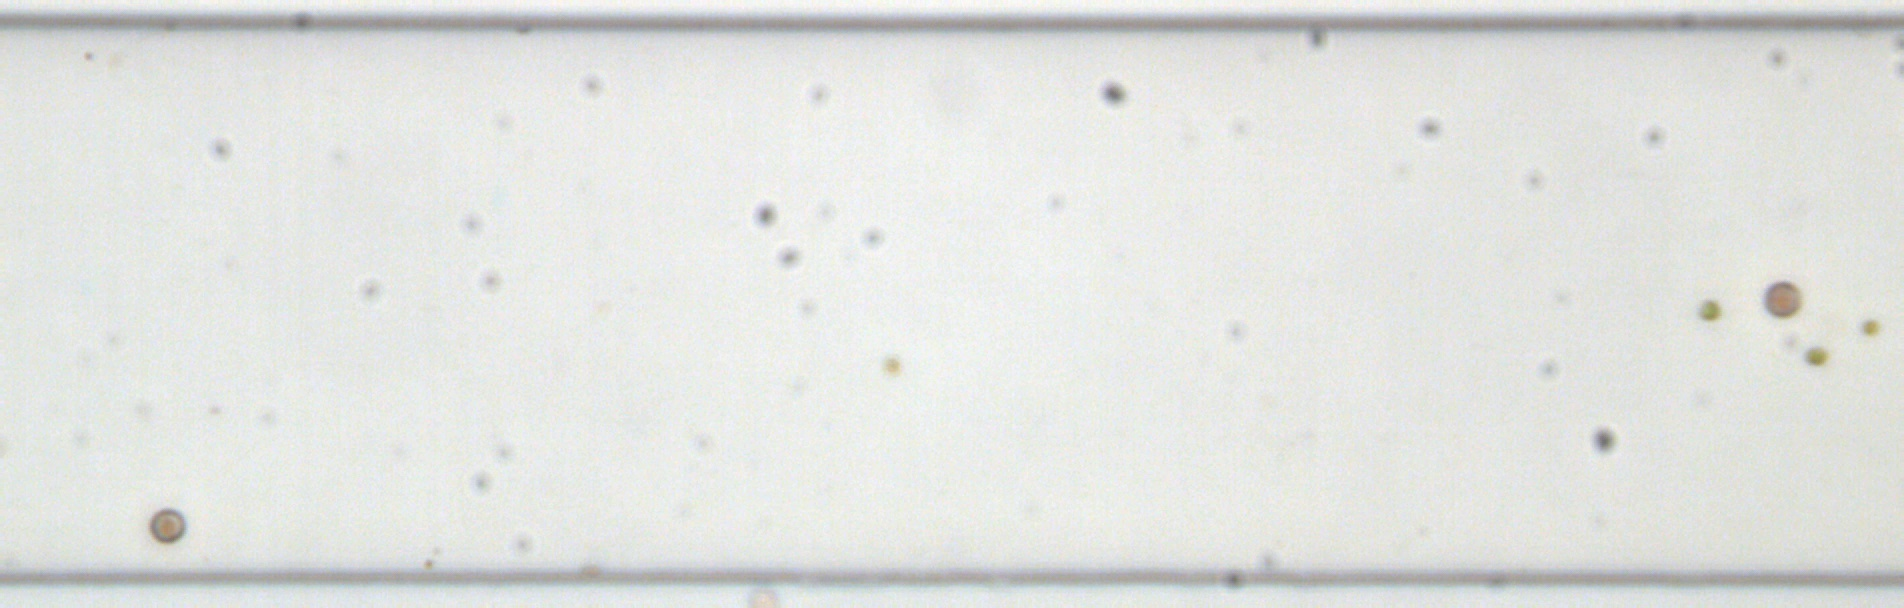Chlorella: (1803, 343, 1827, 366), (1698, 299, 1719, 322), (882, 354, 903, 374), (1859, 318, 1878, 335)
Porphyridium: (1761, 278, 1803, 318), (147, 505, 188, 545)
